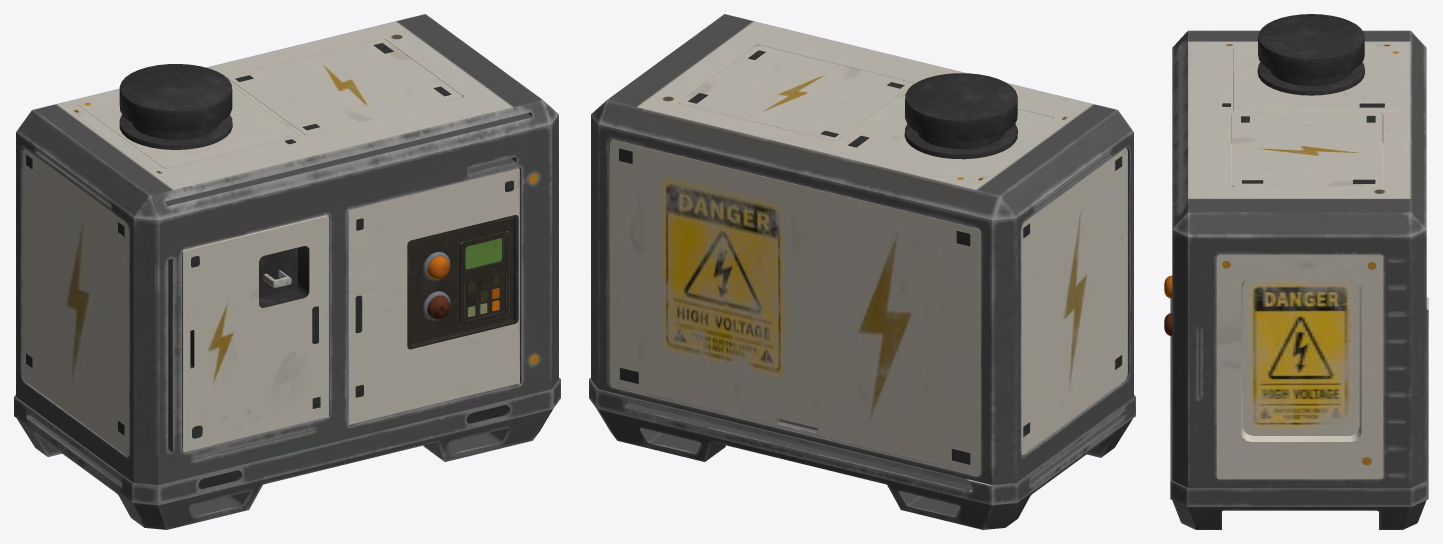
File: generator.glb
3 views of the same model, side by side, from view 1: azimuth 30°, elevation 25°; view 2: azimuth 150°, elevation 25°; view 3: azimuth 270°, elevation 25° (orthographic). The views are drawn at different scales.
Parts seen in each view (by area): view 1: SM_Generator_12342; view 2: SM_Generator_12342; view 3: SM_Generator_12342.
Boxes of the visible parts, x1,y1,x2,y2 form: SM_Generator_12342: (14,14,560,529); SM_Generator_12342: (589,14,1135,529); SM_Generator_12342: (1164,14,1428,529).
Size of the model in its own units: 2.31 by 1.93 by 1.31.
Materials: 2 (2 with a texture image).
